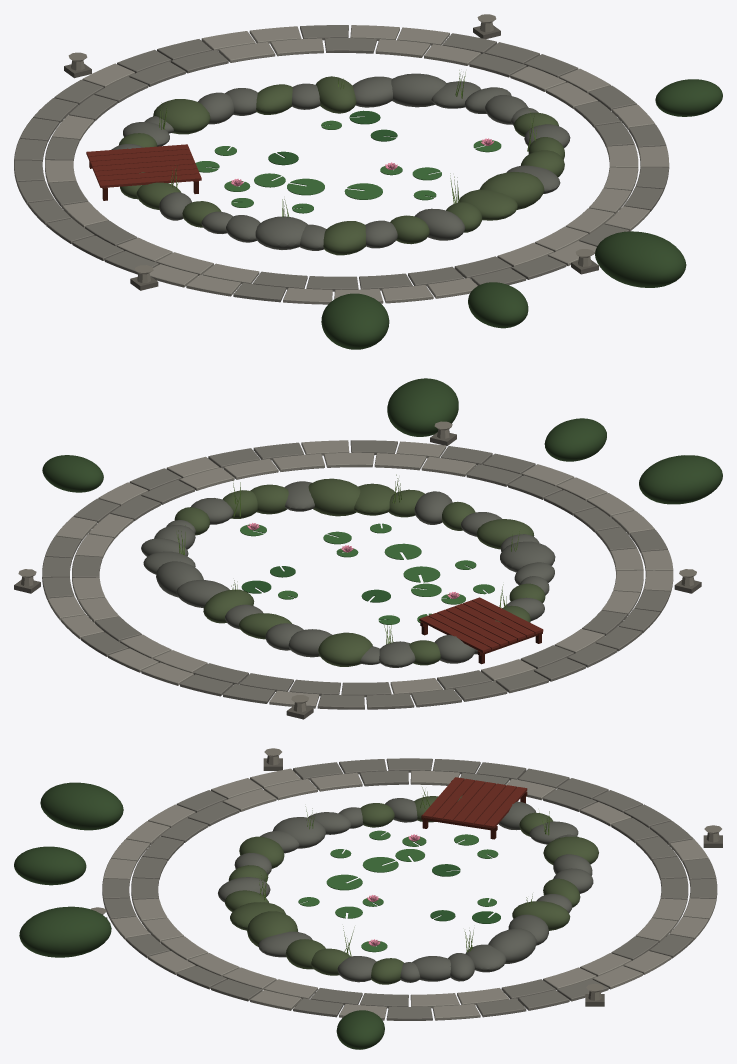
The model's file is temple-pond.glb.
The picture shows the model from 3 angles, top to bottom: view 1: azimuth 30°, elevation 25°; view 2: azimuth 150°, elevation 25°; view 3: azimuth 270°, elevation 25°; orthographic projection. The views are drawn at different scales.
Visible parts, largest first — view 1: hedge225, hedge227, hedge226, hedge228, rockMoss26, rockMoss6, rock33, rock14, rockMoss12, rockMoss7, rockMoss31, rock9 (+100 smaller); view 2: hedge227, hedge225, hedge226, hedge228, rockMoss6, rockMoss26, rock14, rockMoss12, rock33, rockMoss7, rockMoss31, rock32 (+96 smaller); view 3: hedge225, hedge227, hedge226, hedge228, rock33, rockMoss6, rockMoss26, rock14, rockMoss31, rockMoss12, rock34, rock36 (+97 smaller).
Boxes of the visible parts, x1,y1,x2,y2 form: hedge225: (595,231,686,287); hedge227: (321,293,389,349); hedge226: (468,282,528,328); hedge228: (655,79,722,116); rockMoss26: (153,99,210,134); rockMoss6: (479,172,544,209); rock33: (391,73,446,107); rock14: (255,216,307,249); rockMoss12: (323,221,365,255); rockMoss7: (458,189,517,220); rockMoss31: (315,76,356,113); rock9: (414,208,465,240); hedge227: (639,455,722,504); hedge225: (387,378,458,436); hedge226: (544,418,606,461); hedge228: (42,455,103,492); rockMoss6: (308,478,360,516); rockMoss26: (318,632,372,666); rock14: (500,541,555,572); rockMoss12: (476,519,534,549); rock33: (156,561,203,597); rockMoss7: (354,483,395,515); rockMoss31: (203,589,254,623); rock32: (176,580,229,608); hedge225: (19,906,111,957); hedge227: (40,782,123,830); hedge226: (14,846,86,885); hedge228: (336,1010,384,1049); rock33: (488,928,536,963); rockMoss6: (247,911,297,946); rockMoss26: (543,836,598,864); rock14: (273,817,325,848); rockMoss31: (512,901,570,930); rockMoss12: (239,836,284,868); rock34: (465,944,506,972); rock36: (412,956,450,981).
Size of the model in its own units: 14.28 by 1.16 by 14.71.
